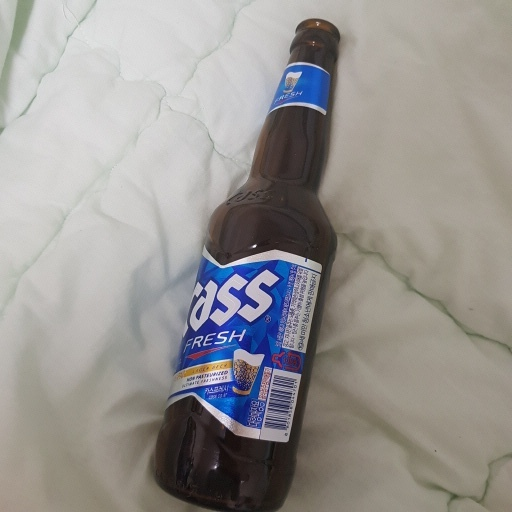Glass_1: (155, 20, 349, 507)
